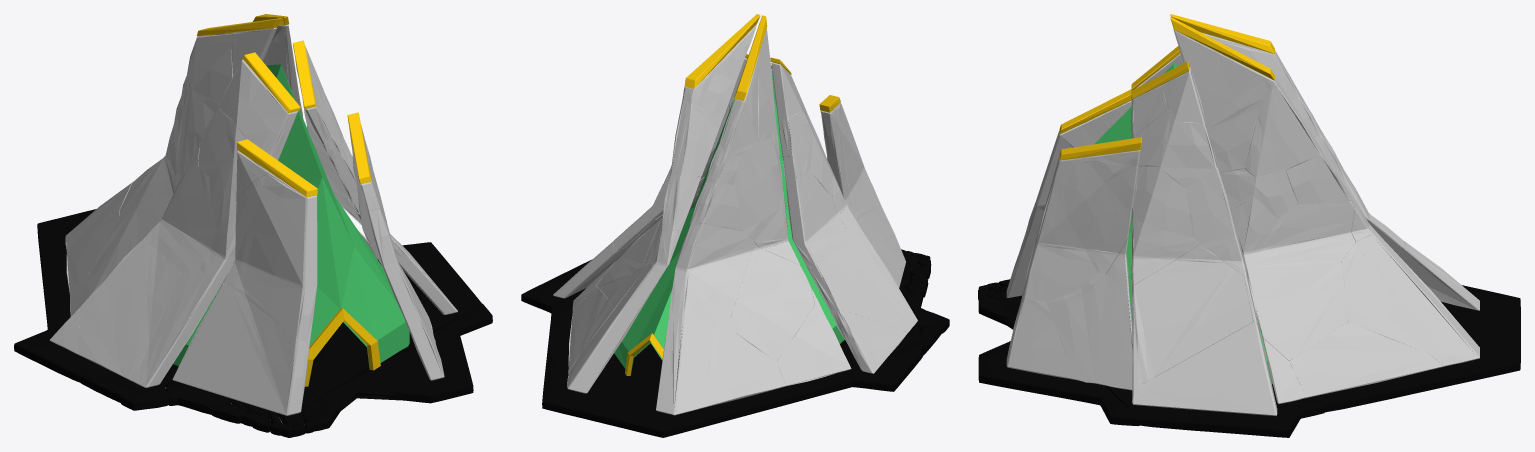
The model's file is buildingruin.fbx.
The picture shows the model from 3 angles, left to right: view 1: azimuth 30°, elevation 25°; view 2: azimuth 150°, elevation 25°; view 3: azimuth 270°, elevation 25°; orthographic projection. The views are drawn at different scales.
Visible parts, largest first — view 1: Voronoi_Fracture_1, Voronoi_Fracture, Cube, Cube_1; view 2: Voronoi_Fracture_1, Voronoi_Fracture, Cube, Cube_1; view 3: Voronoi_Fracture_1, Voronoi_Fracture, Cube_1, Cube.
Part boxes in pixels (bbox=[...]): Voronoi_Fracture_1: bbox=[50, 24, 457, 415]; Voronoi_Fracture: bbox=[14, 209, 492, 437]; Cube: bbox=[173, 64, 409, 369]; Cube_1: bbox=[197, 14, 380, 386]; Voronoi_Fracture_1: bbox=[553, 25, 917, 415]; Voronoi_Fracture: bbox=[521, 249, 949, 437]; Cube: bbox=[614, 74, 844, 375]; Cube_1: bbox=[625, 14, 840, 375]; Voronoi_Fracture_1: bbox=[1006, 29, 1479, 415]; Voronoi_Fracture: bbox=[978, 279, 1520, 437]; Cube_1: bbox=[1059, 14, 1274, 160]; Cube: bbox=[1094, 63, 1272, 383].
Bounding box in the file's own units: 1311 × 983 × 1500.
